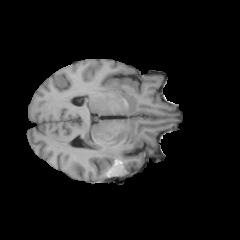glioma: (90, 142, 125, 180)
